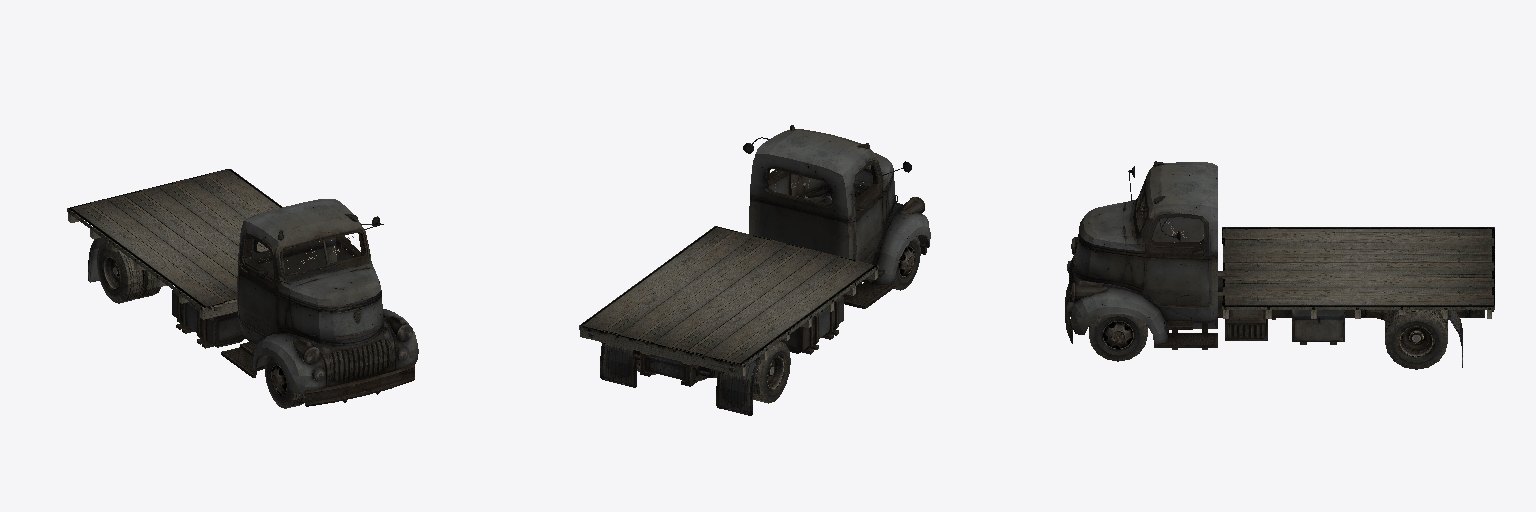
The picture shows the model from 3 angles: view 1: azimuth 30°, elevation 25°; view 2: azimuth 150°, elevation 25°; view 3: azimuth 270°, elevation 25°; orthographic projection.
Visible parts, largest first — view 1: TruckMat1, TruckMat2; view 2: TruckMat2, TruckMat1; view 3: TruckMat2, TruckMat1.
Boxes of the visible parts, <box> form: TruckMat1: <box>88,199,418,406</box>; TruckMat2: <box>67,169,304,408</box>; TruckMat2: <box>579,226,920,403</box>; TruckMat1: <box>588,125,930,415</box>; TruckMat2: <box>1089,227,1494,369</box>; TruckMat1: <box>1065,161,1493,367</box>.
Size of the model in its own units: 5.49 by 4.99 by 12.52.
3 materials, 3 textured.